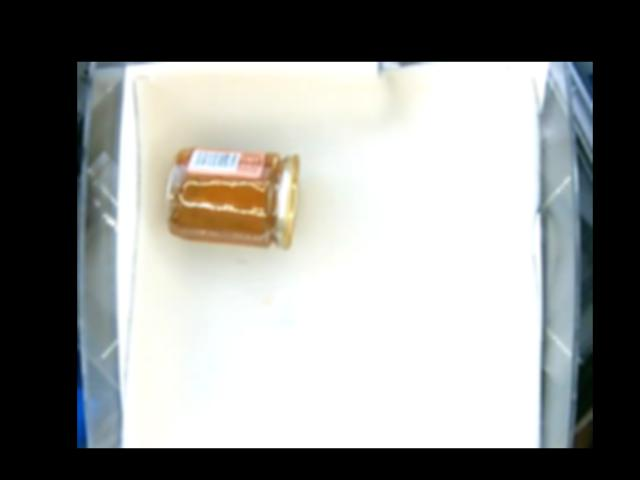Bottle: (165, 147, 299, 250)
